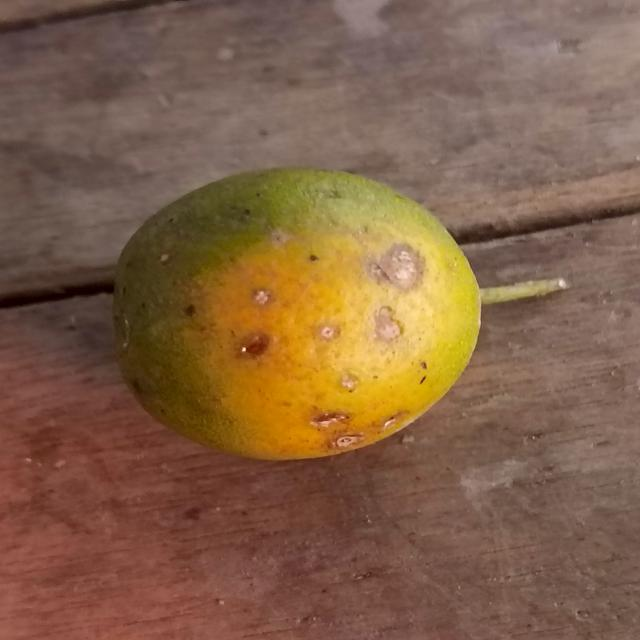black spot: (110, 167, 487, 462)
